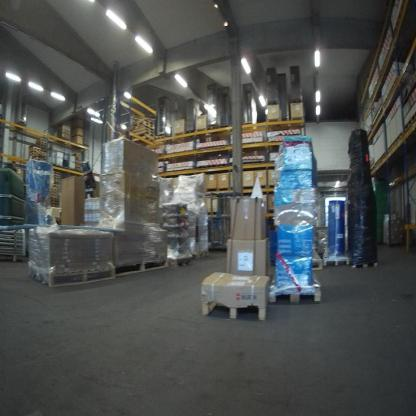pallet: (268, 271, 322, 304), (323, 253, 350, 267), (350, 259, 378, 270), (168, 255, 192, 267), (312, 250, 324, 270), (383, 239, 404, 248), (192, 250, 210, 259), (207, 124, 219, 130), (267, 100, 279, 105), (291, 98, 302, 103), (185, 129, 195, 134), (29, 147, 40, 151), (37, 141, 47, 145), (158, 135, 166, 139), (37, 138, 47, 141), (37, 144, 47, 147), (37, 147, 46, 150), (54, 171, 60, 175), (54, 175, 60, 178)
